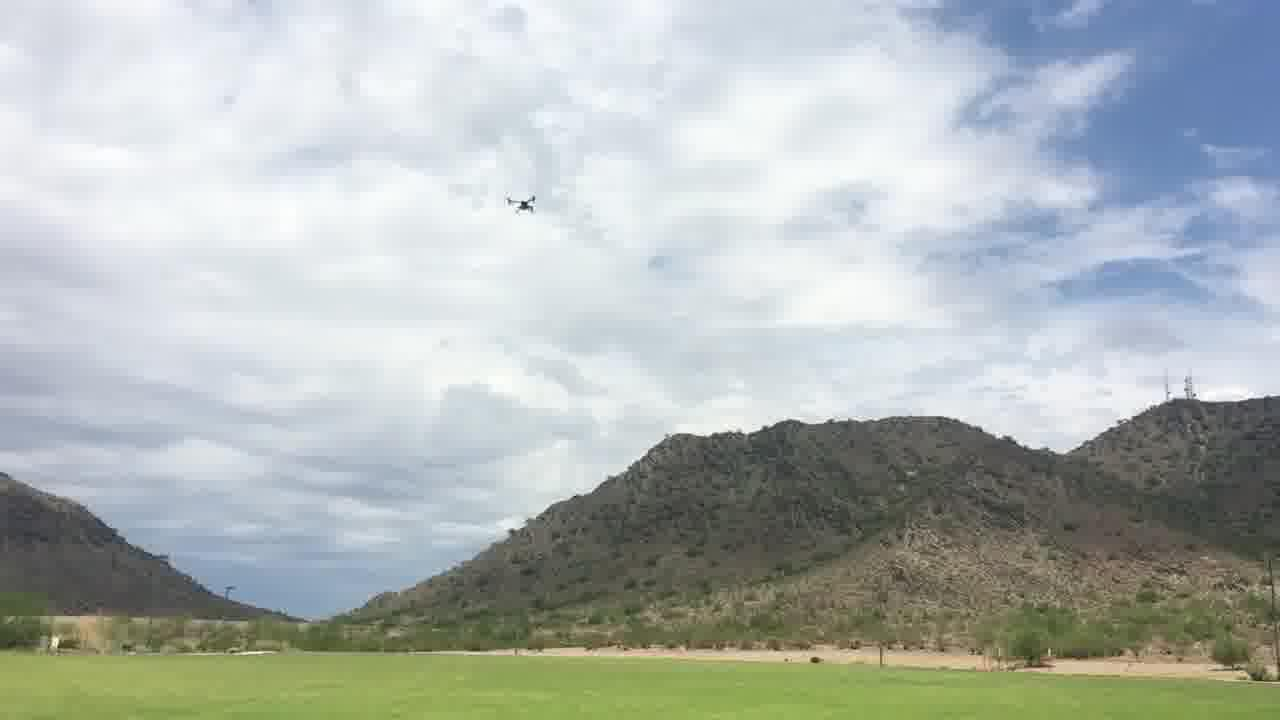drone: (499, 189, 541, 231)
